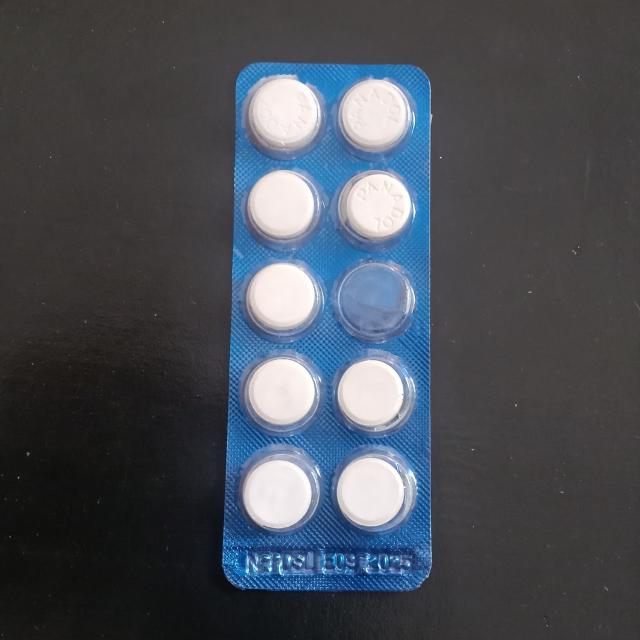defect: (329, 258, 419, 348)
